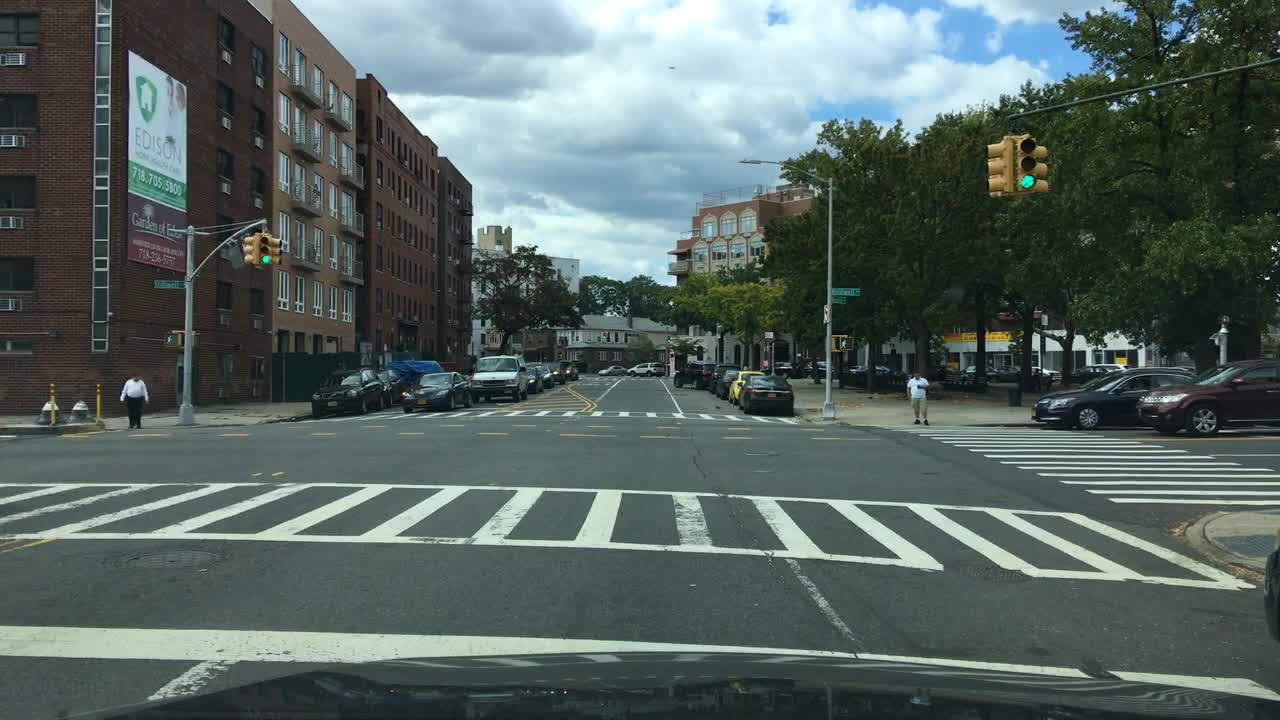car: (1031, 366, 1199, 431), (1135, 358, 1278, 434), (311, 362, 381, 418), (399, 370, 472, 414), (468, 353, 529, 404), (736, 371, 796, 416), (389, 358, 445, 395), (1262, 547, 1279, 640), (726, 371, 765, 405), (373, 368, 407, 407), (706, 362, 743, 393), (839, 363, 890, 385), (670, 360, 703, 389), (1077, 363, 1126, 382), (795, 358, 838, 379), (524, 362, 555, 389), (714, 369, 738, 400), (629, 360, 665, 378), (693, 360, 714, 389), (523, 366, 545, 393), (544, 360, 565, 385), (558, 358, 579, 380), (766, 360, 792, 376), (809, 357, 823, 385), (597, 364, 628, 376), (888, 370, 914, 384), (997, 364, 1022, 374), (1032, 365, 1051, 376), (963, 362, 977, 375), (984, 365, 998, 376)
person: (119, 370, 151, 430), (904, 370, 929, 425), (762, 356, 770, 369)
traffic light: (1011, 133, 1040, 195), (987, 142, 1007, 197), (256, 232, 273, 267), (829, 333, 855, 353), (1037, 144, 1048, 190), (269, 236, 285, 265), (165, 328, 186, 348), (241, 235, 254, 264)
traffic sign: (151, 277, 188, 290), (830, 286, 860, 296), (822, 304, 831, 324), (829, 296, 848, 304), (1041, 313, 1050, 326), (764, 330, 775, 339)
